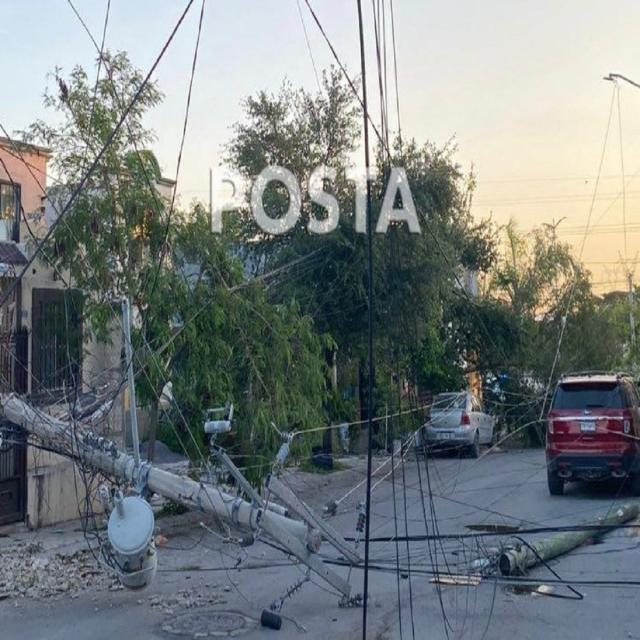Inclined Pole: (2, 289, 381, 597), (490, 493, 640, 591)
